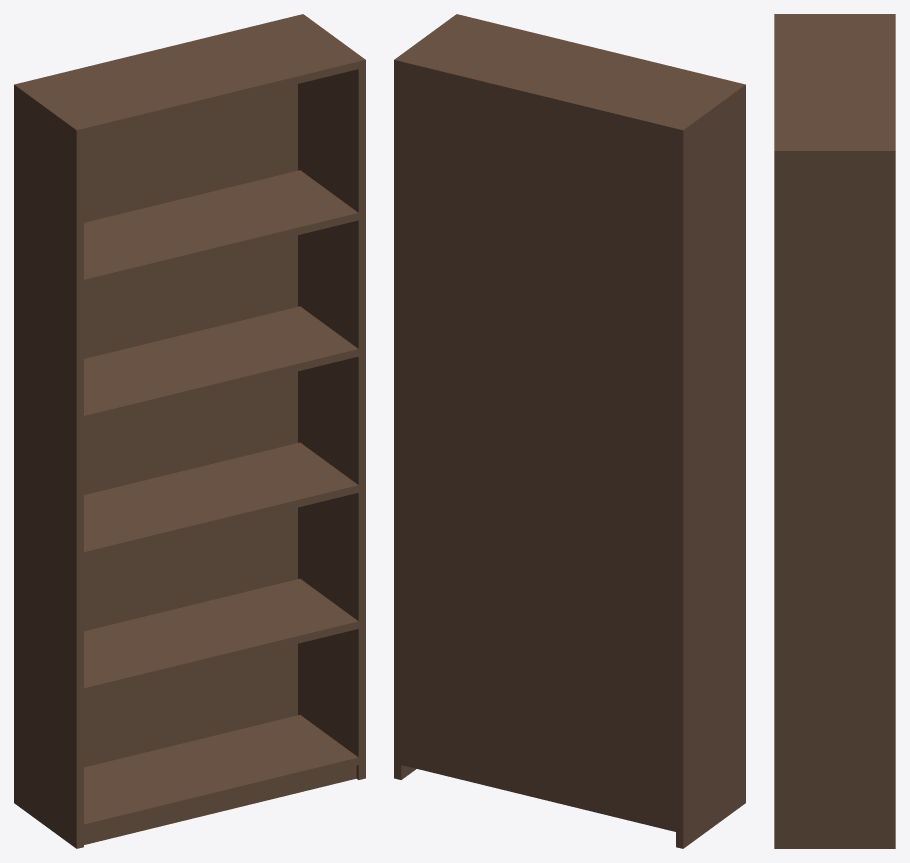
Rendered from bookcase-tall.glb.
3 renders of one model, left to right at view 1: azimuth 30°, elevation 25°; view 2: azimuth 150°, elevation 25°; view 3: azimuth 270°, elevation 25°, orthographic. The views are drawn at different scales.
Visible parts, largest first — view 1: wood; view 2: wood; view 3: wood.
Boxes of the visible parts, <box> form: wood: <box>14,14,365,848</box>; wood: <box>394,14,745,848</box>; wood: <box>774,14,895,848</box>.
Size of the model in its own units: 0.8 by 1.9 by 0.3.
